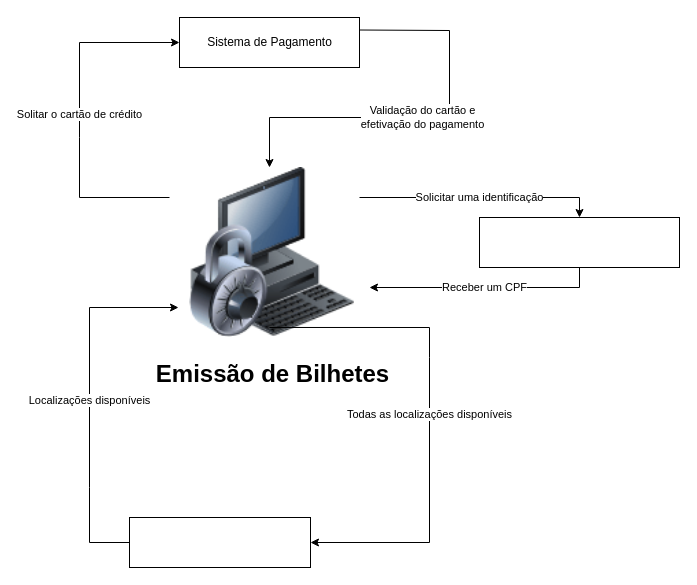
Some shapes in this 697 by 585 pixel diagram are drawn without their labels. The box of each missing label's shape, as (x1, y1, x2, y2) in pixels:
Sistema de Identificação: (478, 216, 680, 268)
Sistema de Localização: (128, 516, 310, 568)
